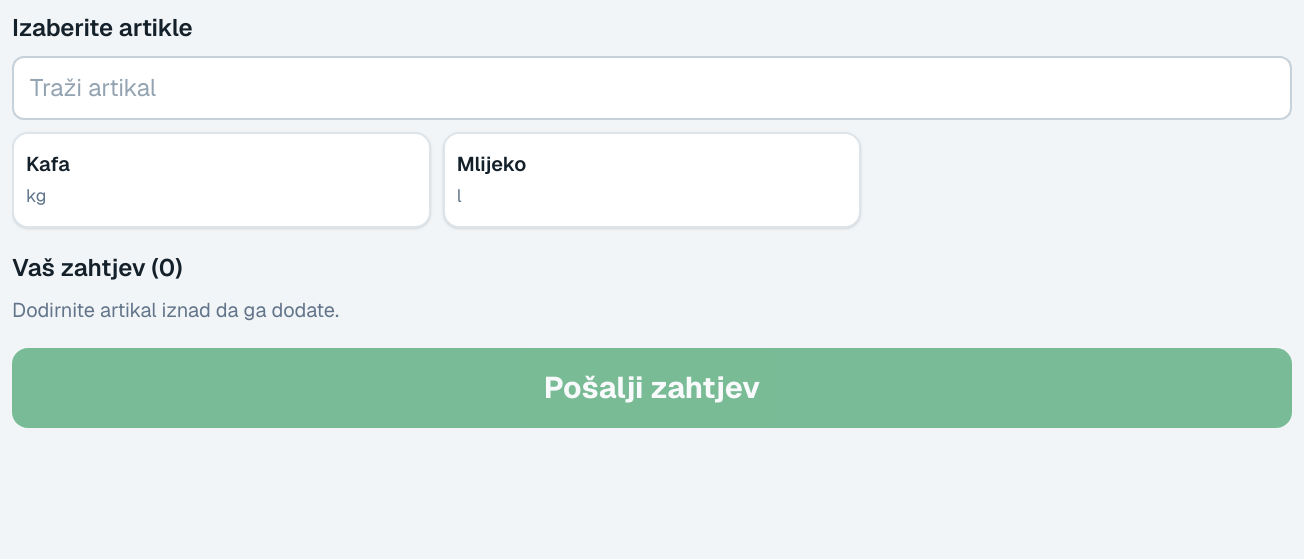
objekat: novi zahtjev na tabletu › dodir na artikal ga dodaje s količinom 1, a + i − mijenjaju količinu
Click the button "Mlijeko l" at (491, 164), box [443, 132, 861, 228]
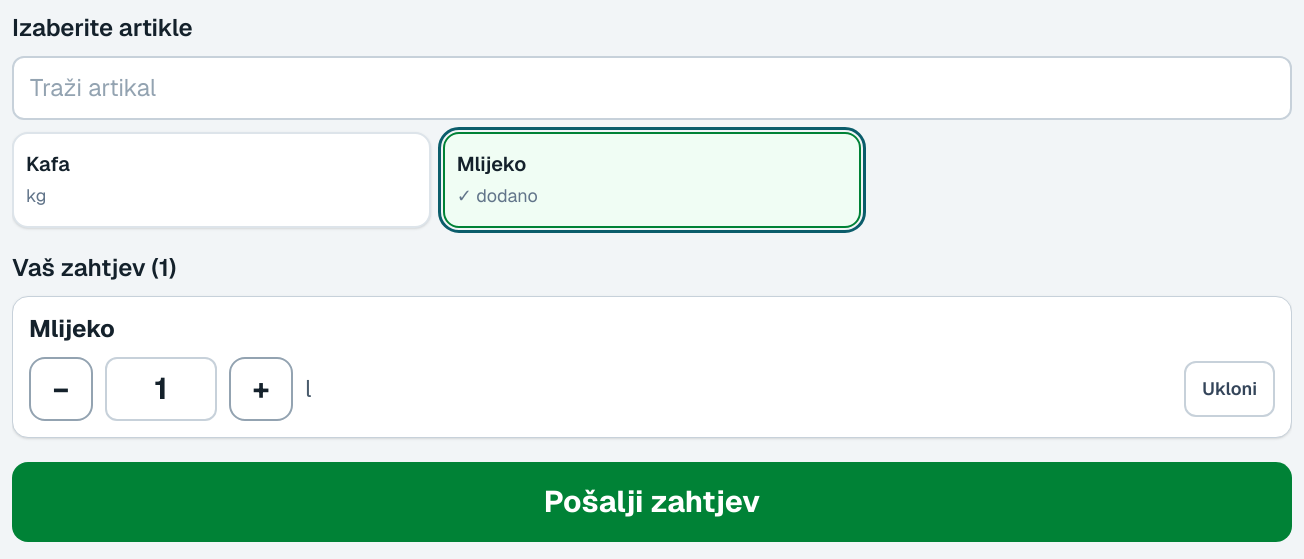
Now the field named "Količina Mlijeko" holds "1", box [105, 357, 217, 421]
Click the button named "Više Mlijeko" at (261, 389), box [229, 357, 293, 421]
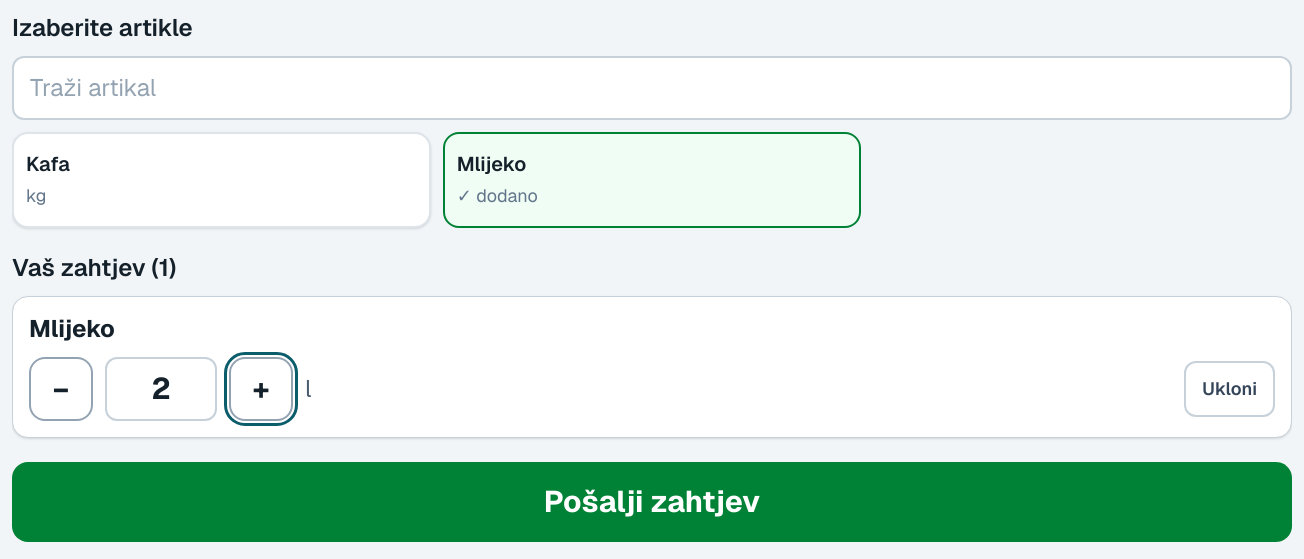
Click the button named "Više Mlijeko" at (261, 389), box [229, 357, 293, 421]
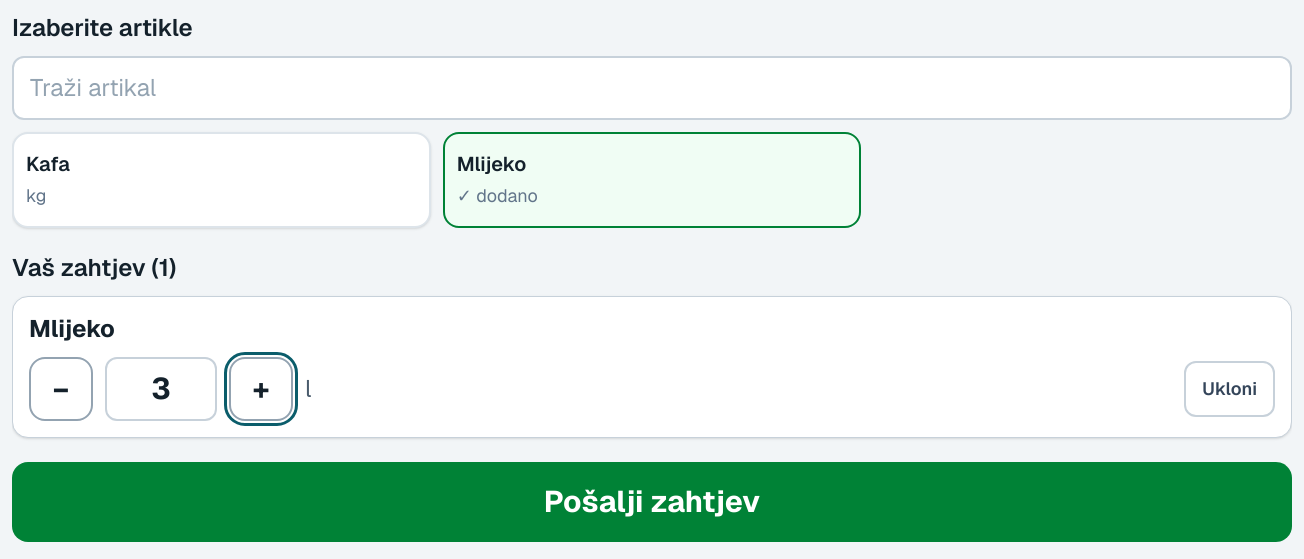
Now the field named "Količina Mlijeko" holds "3", box [105, 357, 217, 421]
Click the button named "Manje Mlijeko" at (61, 389), box [29, 357, 93, 421]
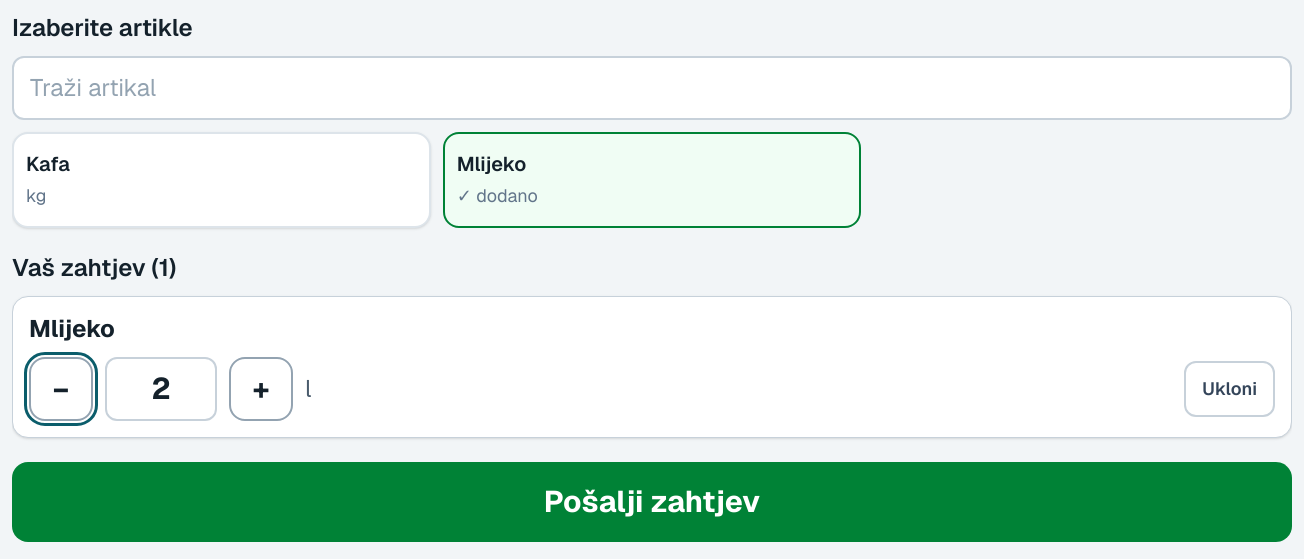
Now the field named "Količina Mlijeko" holds "2", box [105, 357, 217, 421]
